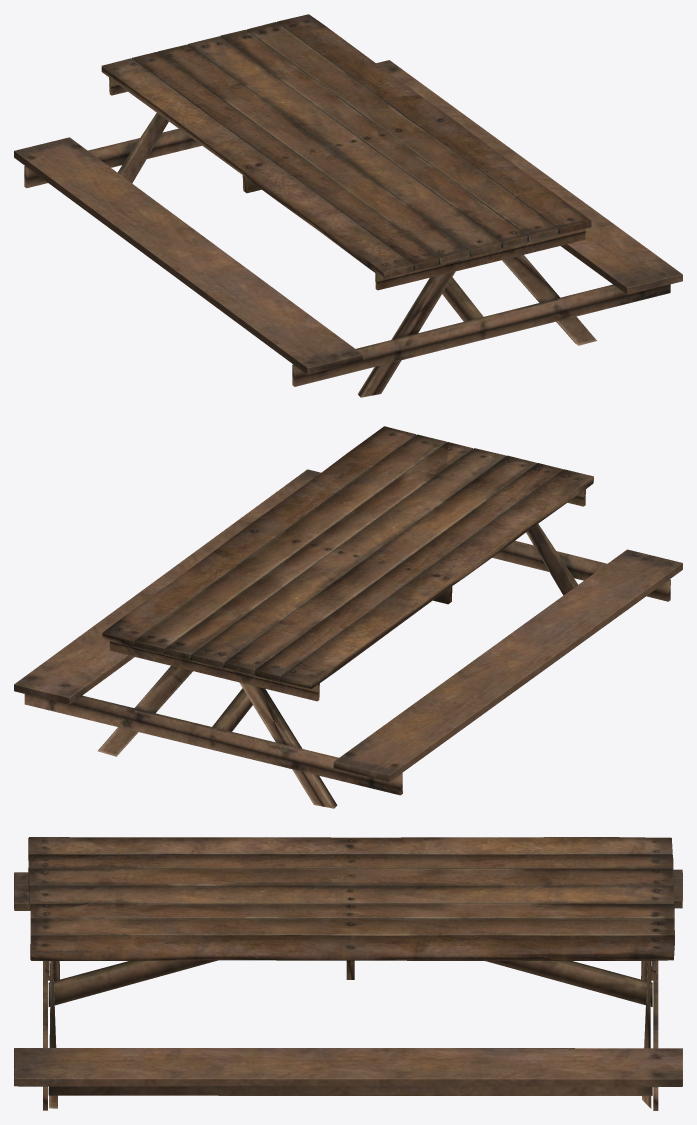
File: wooden_picnic_table.glb
3 views of the same model, one above another, from view 1: azimuth 30°, elevation 25°; view 2: azimuth 150°, elevation 25°; view 3: azimuth 270°, elevation 25° (orthographic). The views are drawn at different scales.
Parts seen in each view (by area): view 1: wooden_picnic_table; view 2: wooden_picnic_table; view 3: wooden_picnic_table.
Boxes of the visible parts, bbox=[...] form: wooden_picnic_table: bbox=[14, 14, 682, 397]; wooden_picnic_table: bbox=[14, 426, 682, 808]; wooden_picnic_table: bbox=[14, 837, 682, 1110].
Size of the model in its own units: 2.24 by 0.7454 by 3.02.
Materials: 2 (2 with a texture image).
